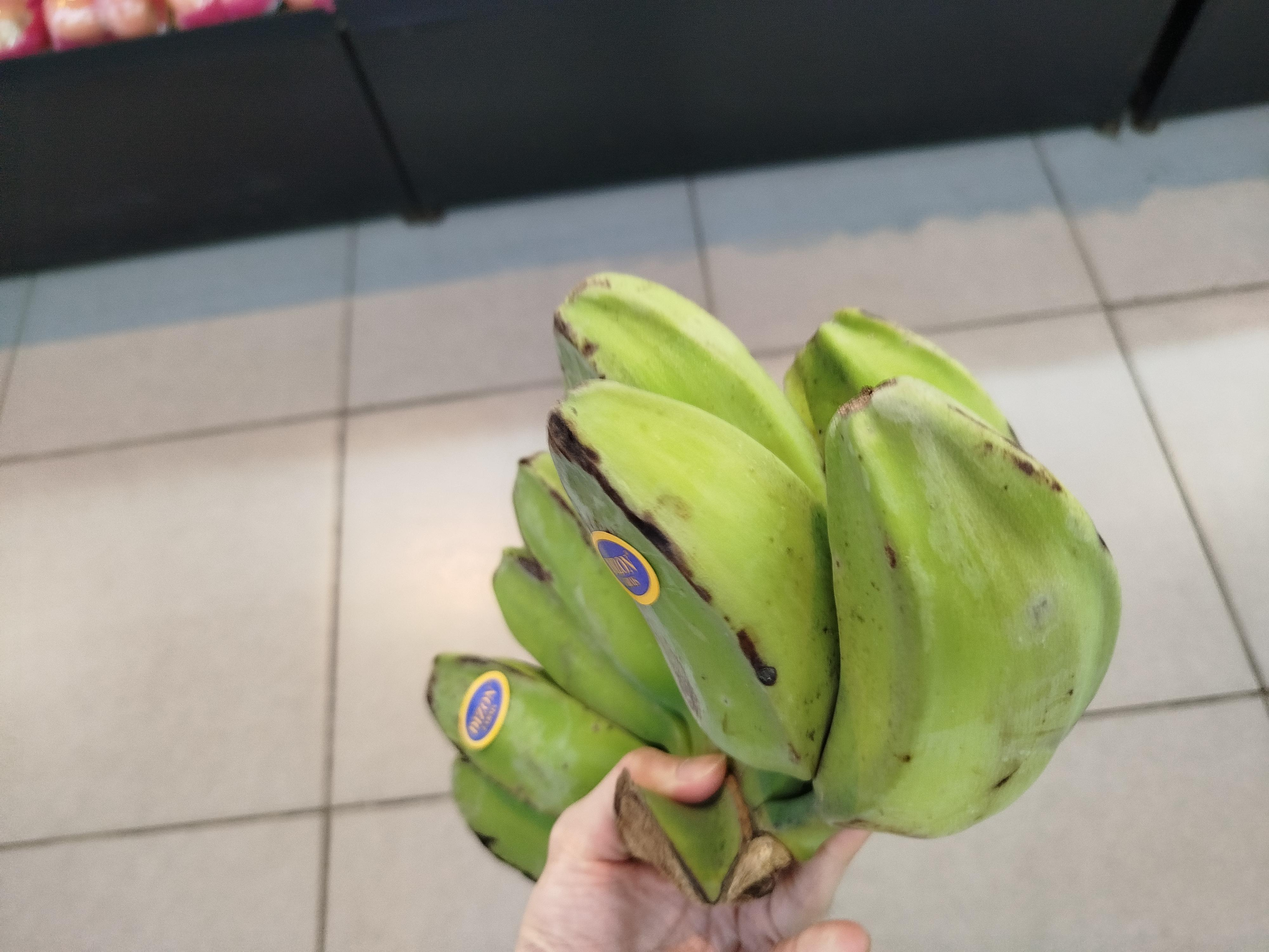underripe: (428, 273, 1121, 877)
